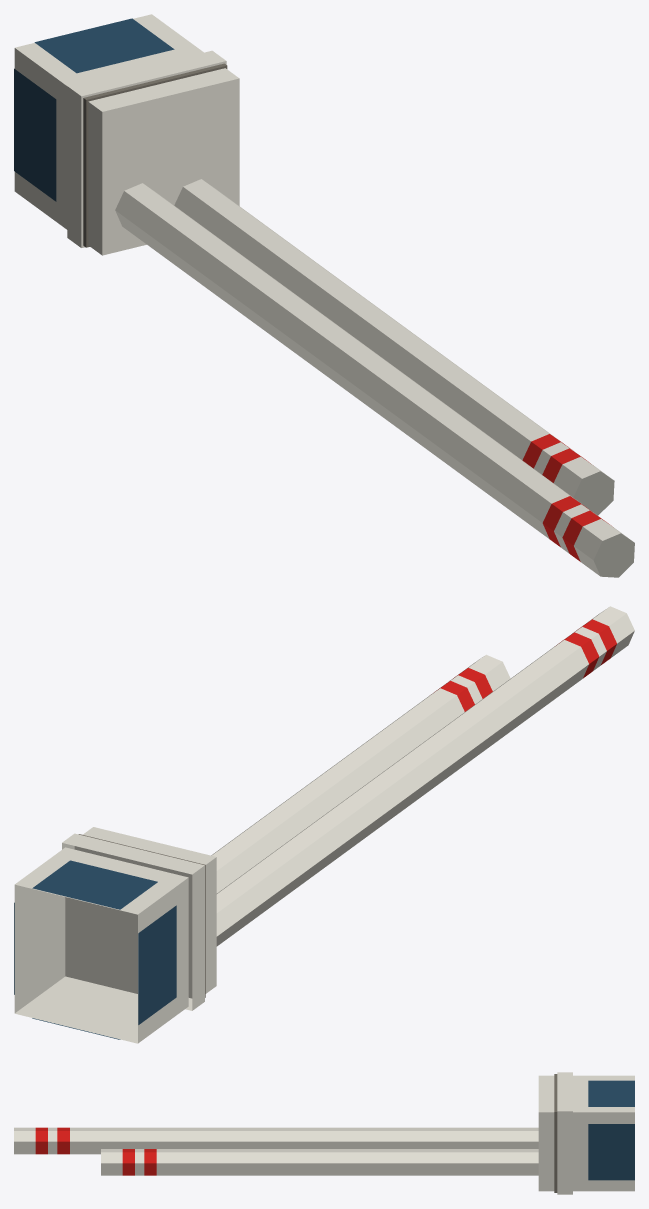
The model's file is construction_0.glb.
3 views of the same model, one above another, from view 1: azimuth 30°, elevation 25°; view 2: azimuth 150°, elevation 25°; view 3: azimuth 270°, elevation 25° (orthographic). The views are drawn at different scales.
Parts seen in each view (by area): view 1: construction_0; view 2: construction_0; view 3: construction_0.
Boxes of the visible parts, bbox=[...] form: construction_0: bbox=[14, 14, 634, 577]; construction_0: bbox=[14, 606, 634, 1043]; construction_0: bbox=[14, 1072, 634, 1194].
Bounding box in the file's own units: 14.8 × 14.8 × 100.
